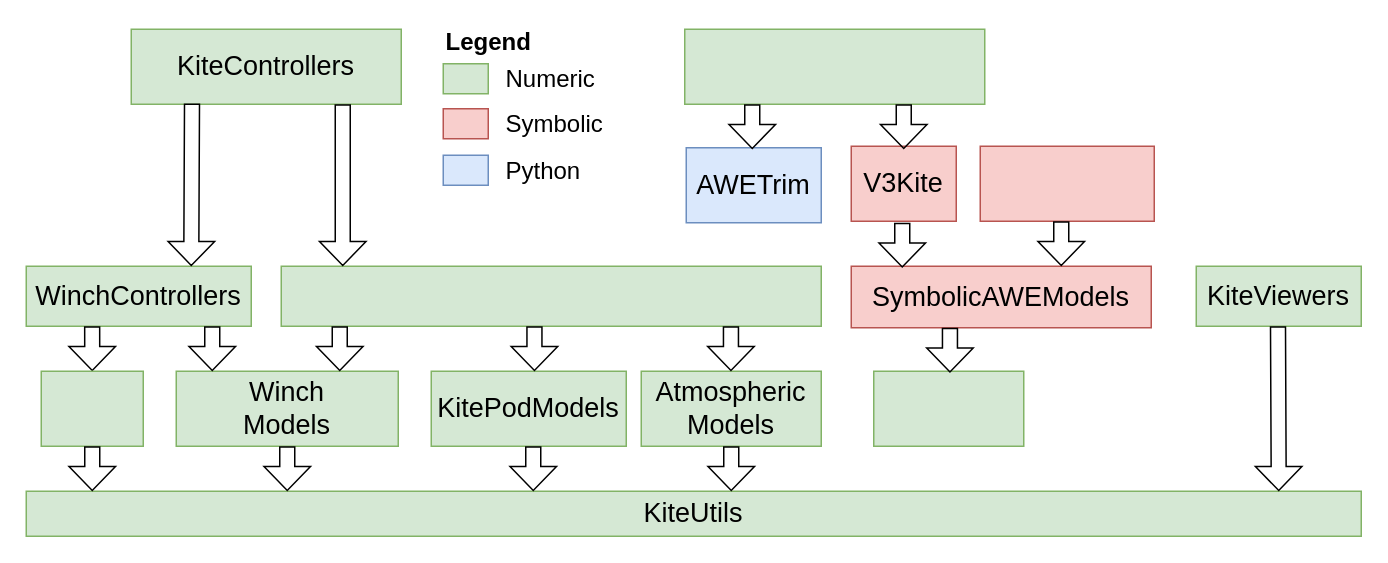
This 1388x563 diagram has some shape labels left out. The shapes that lost their labels are listed below. From the top down, each one's centre as x and y in pixels, then its label:
[834,66]: SimpleKiteControllers
[1066,183]: RamAirKites
[550,295]: KiteModels
[91,408]: Tether Models
[948,408]: VortexStep Method
